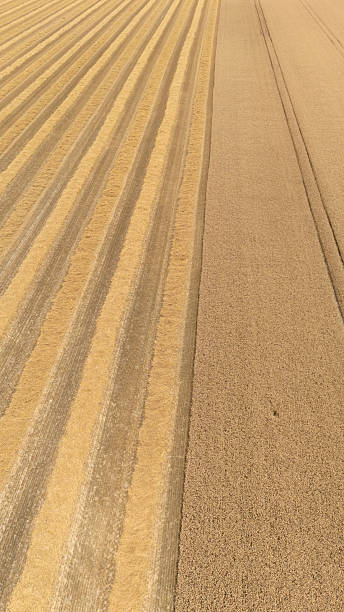vehicle_track: (56, 5, 205, 609), (0, 10, 182, 444), (0, 62, 152, 407), (0, 41, 152, 329), (0, 2, 153, 223), (0, 15, 139, 255), (255, 0, 343, 318), (44, 169, 143, 442), (0, 0, 130, 171), (0, 1, 129, 109), (0, 0, 112, 87), (0, 0, 107, 75), (0, 0, 82, 60), (0, 0, 69, 45), (300, 0, 343, 55), (0, 0, 44, 34), (1, 0, 31, 15), (1, 0, 29, 13)
